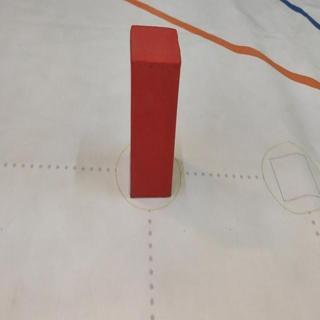redbox: (129, 23, 182, 199)
